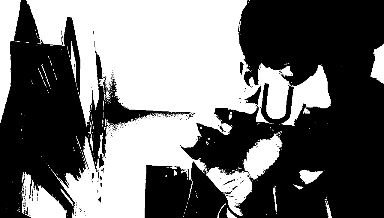U: (258, 80, 296, 123)
